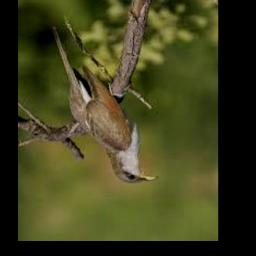Cuckoo: (52, 29, 158, 184)
